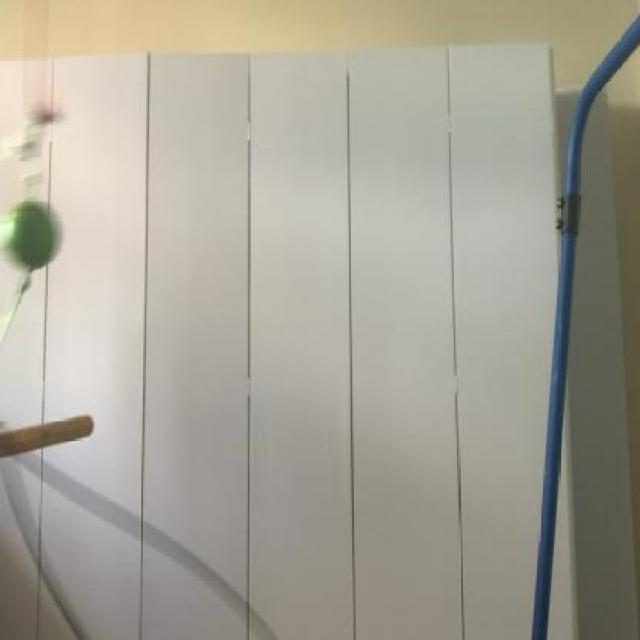baseball: (0, 196, 71, 275)
